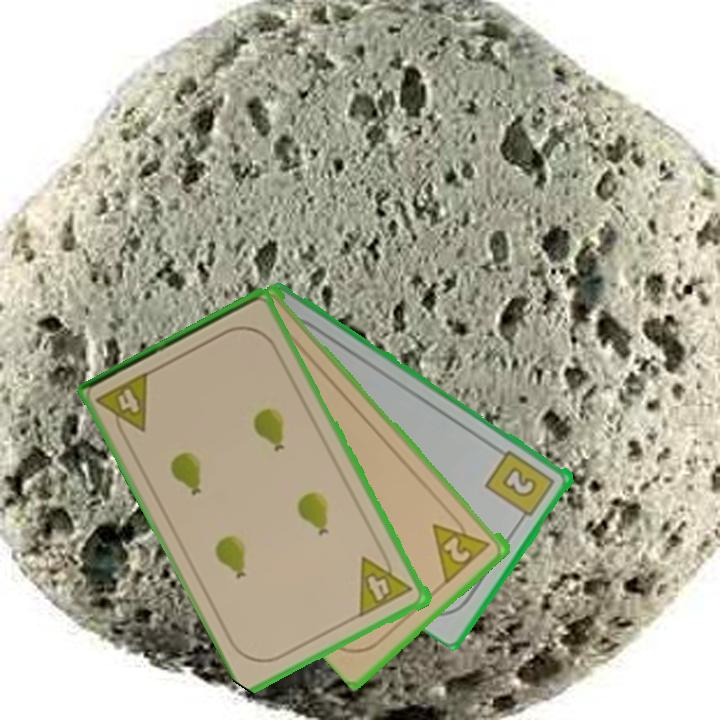2b: (482, 446, 558, 526)
2p: (429, 509, 494, 585)
4p: (93, 368, 153, 445), (355, 545, 417, 619)
